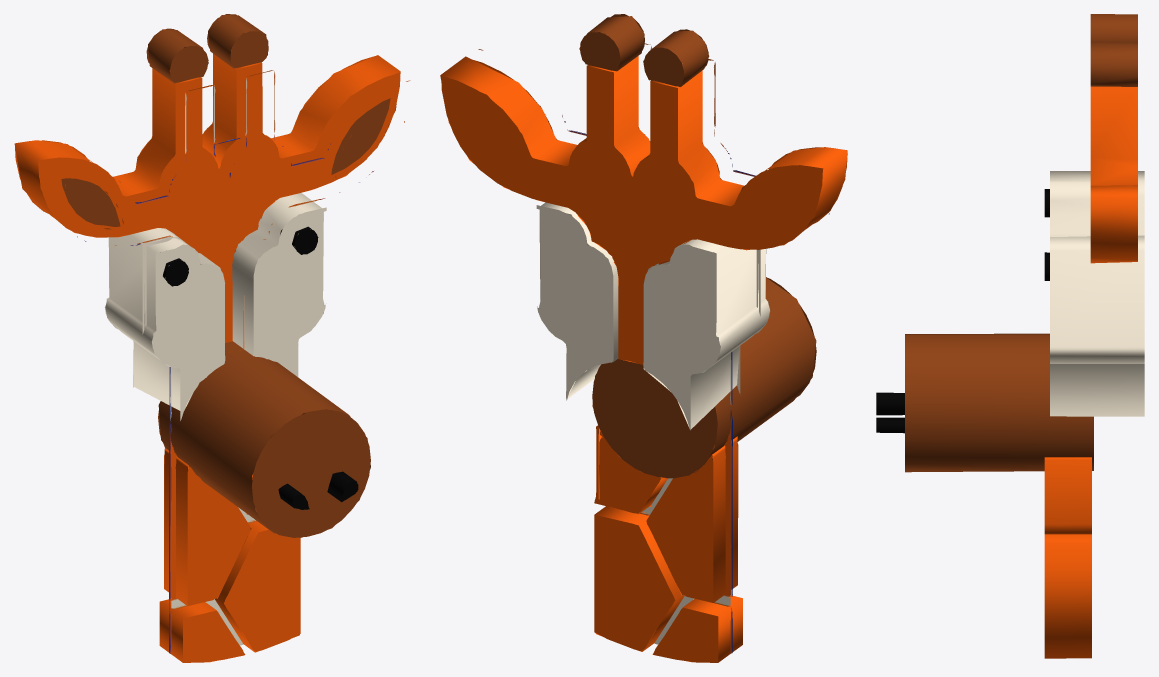
Rendered from girrafe.glb.
The picture shows the model from 3 angles, left to right: view 1: azimuth 30°, elevation 25°; view 2: azimuth 150°, elevation 25°; view 3: azimuth 270°, elevation 25°; orthographic projection. The views are drawn at different scales.
Visible parts, largest first — view 1: girrafe; view 2: girrafe; view 3: girrafe.
Boxes of the visible parts, <box> form: girrafe: <box>14,14,410,662</box>; girrafe: <box>440,14,847,662</box>; girrafe: <box>876,14,1144,658</box>.
Bounding box in the file's own units: 2.42 × 3.83 × 1.53.
